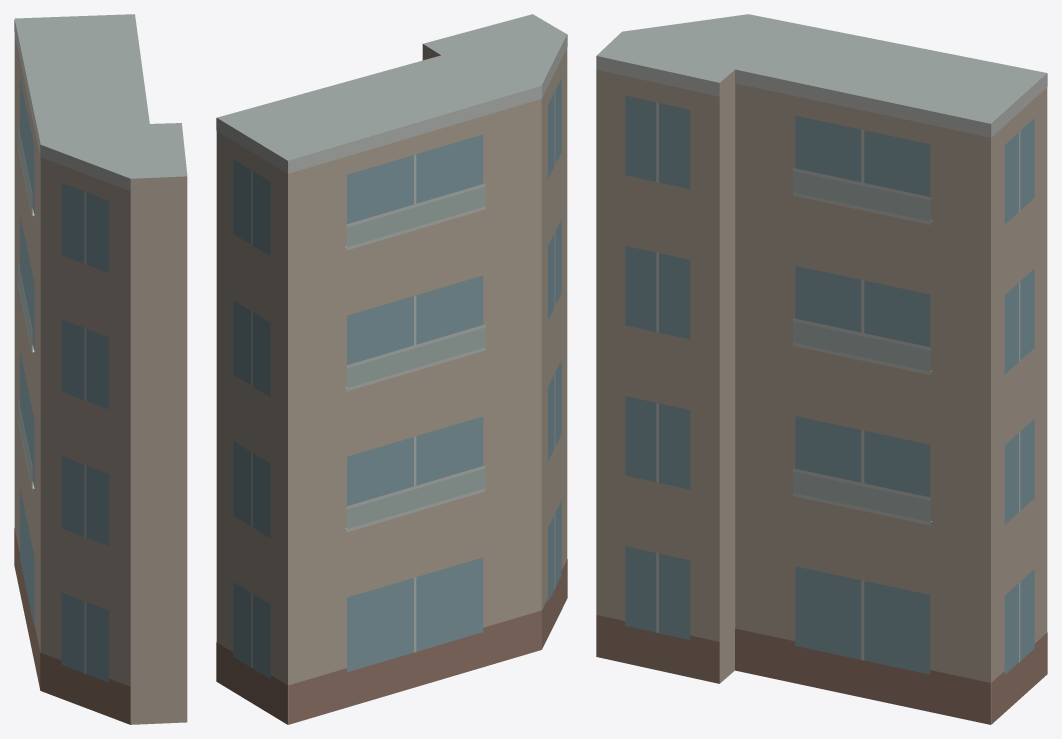
The model's file is survey-upis-32972998.glb.
3 views of the same model, side by side, from view 1: azimuth 30°, elevation 25°; view 2: azimuth 150°, elevation 25°; view 3: azimuth 270°, elevation 25° (orthographic). The views are drawn at different scales.
Parts seen in each view (by area): view 1: survey-upis-32972998.tmp; view 2: survey-upis-32972998.tmp; view 3: survey-upis-32972998.tmp.
Part boxes in pixels (<box>): survey-upis-32972998.tmp: <box>14,14,187,724</box>; survey-upis-32972998.tmp: <box>216,14,567,724</box>; survey-upis-32972998.tmp: <box>596,14,1047,724</box>.
Size of the model in its own units: 4.17 by 10.6 by 7.22.
